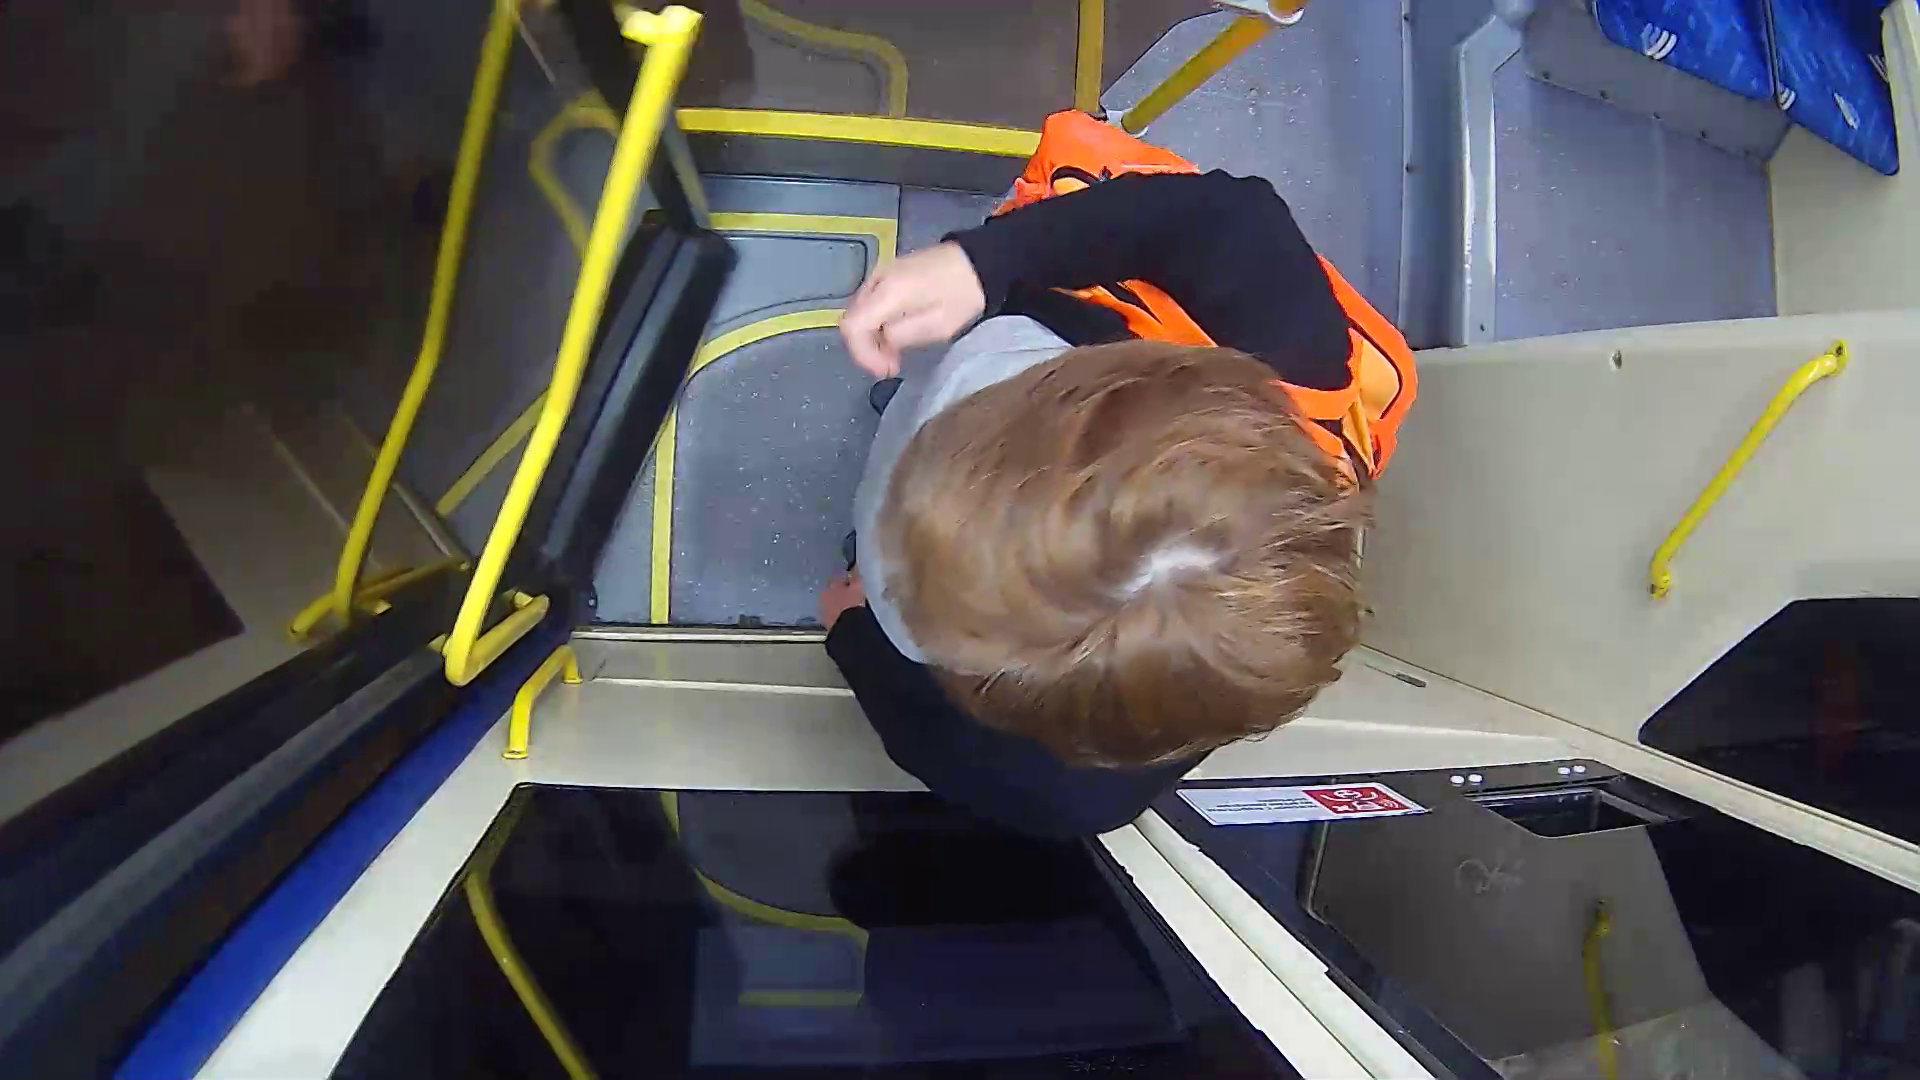person: (759, 131, 1451, 853)
